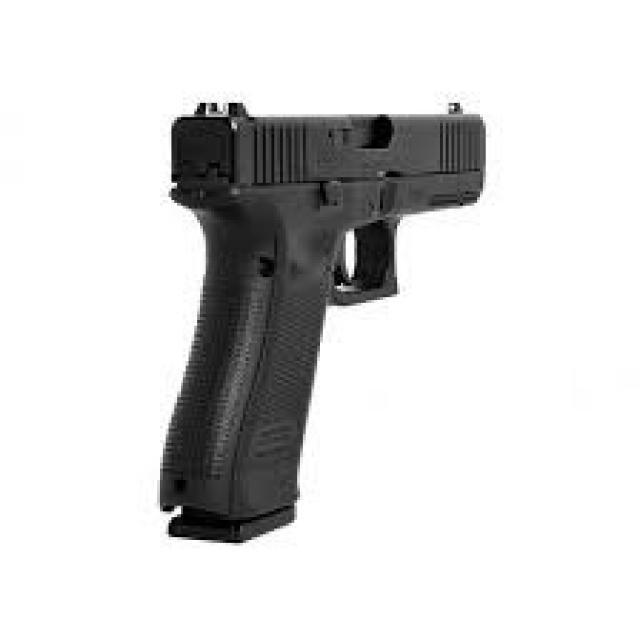pistol: (143, 64, 504, 566)
